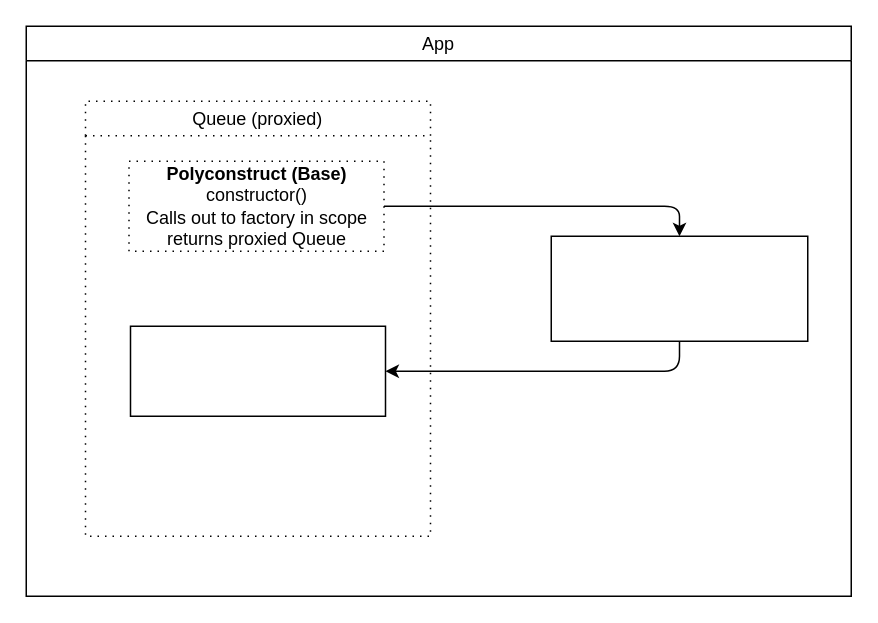
Some shapes in this 878 by 623 pixel diagram are drawn without their labels. Here are the shapes that lost their labels. From the top down, the centre of each, then its label:
At (x=679, y=288): "LocalCloudFactory constructQueue() gets concrete implementation".
At (x=257, y=370): "LocalCloudQueue".
